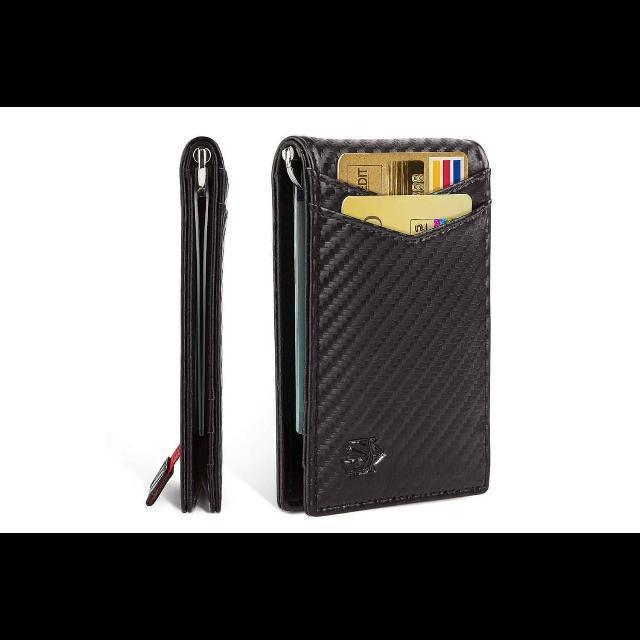wallet: (265, 131, 497, 519), (163, 129, 233, 515)
